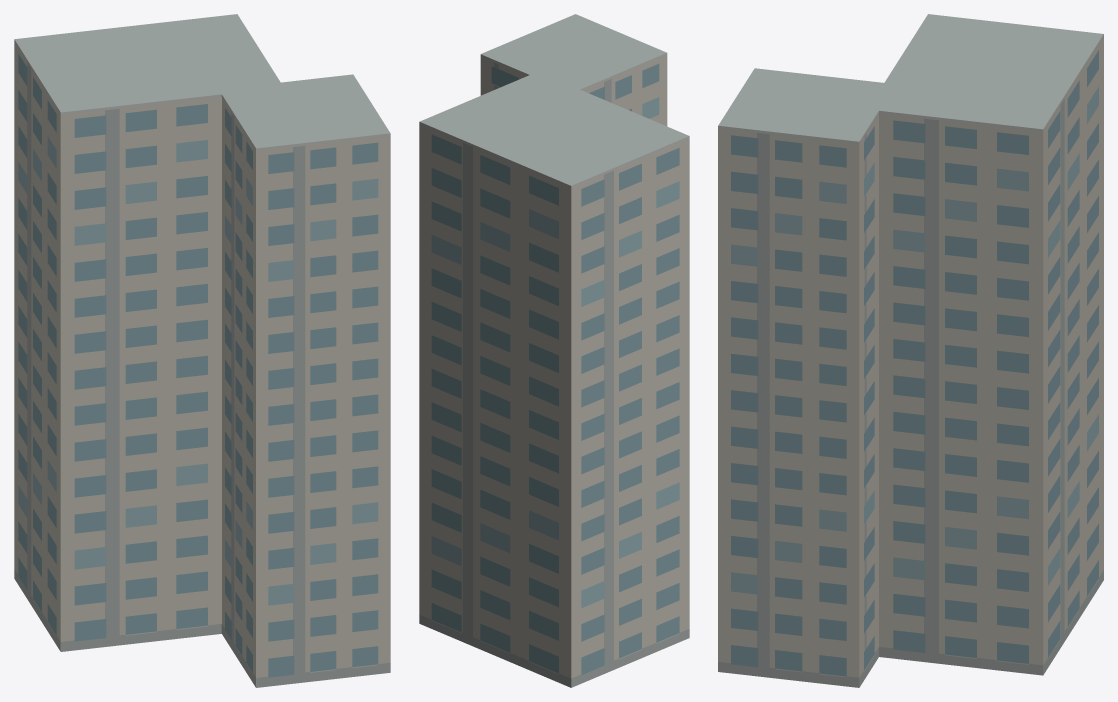
Rendered from residential-5cf4e5bc-b300-49c6-a1c5-1b454cb18a44.glb.
The picture shows the model from 3 angles, left to right: view 1: azimuth 30°, elevation 25°; view 2: azimuth 150°, elevation 25°; view 3: azimuth 270°, elevation 25°; orthographic projection. The views are drawn at different scales.
Parts seen in each view (by area): view 1: residential-5cf4e5bc-b300-49c6-a1c5-1b454cb18a44.tmp; view 2: residential-5cf4e5bc-b300-49c6-a1c5-1b454cb18a44.tmp; view 3: residential-5cf4e5bc-b300-49c6-a1c5-1b454cb18a44.tmp.
Boxes of the visible parts, left/top/right/bottom form: residential-5cf4e5bc-b300-49c6-a1c5-1b454cb18a44.tmp: left=14, top=14, right=390, bottom=687; residential-5cf4e5bc-b300-49c6-a1c5-1b454cb18a44.tmp: left=419, top=14, right=689, bottom=687; residential-5cf4e5bc-b300-49c6-a1c5-1b454cb18a44.tmp: left=718, top=14, right=1103, bottom=687.
Size of the model in its own units: 23.58 by 47 by 30.09.
